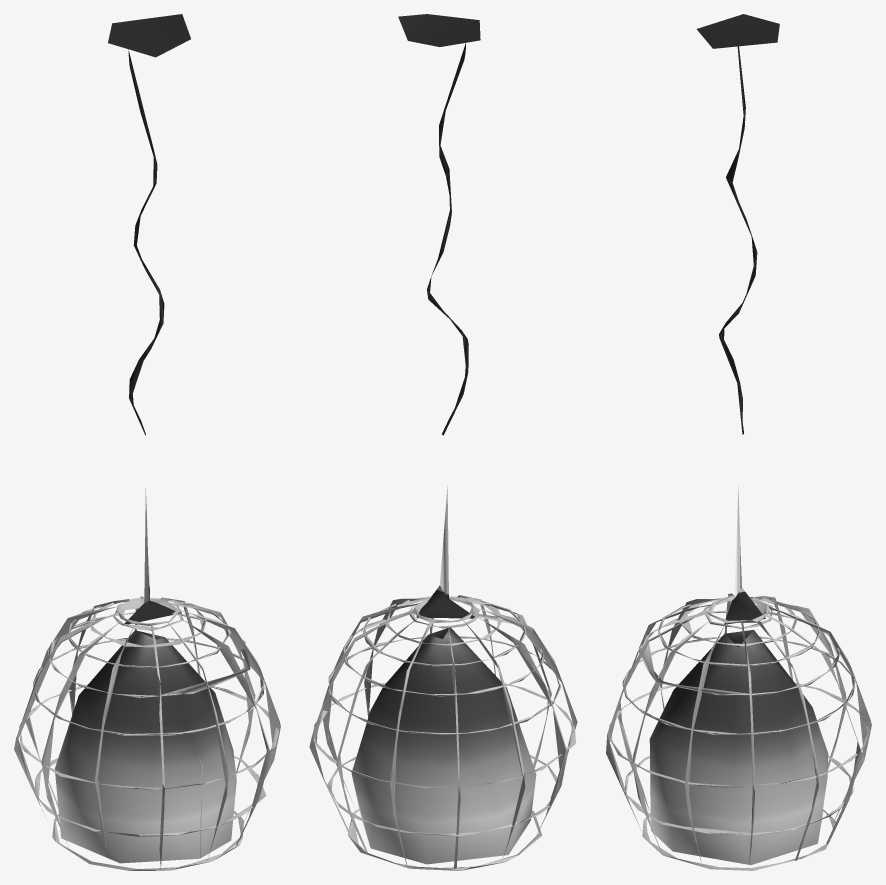
Rendered from LightTop0005.obj.
The picture shows the model from 3 angles, left to right: view 1: azimuth 30°, elevation 25°; view 2: azimuth 150°, elevation 25°; view 3: azimuth 270°, elevation 25°; orthographic projection.
Size of the model in its own units: 0.459 by 1.54 by 0.462.
1 material, 1 textured.
